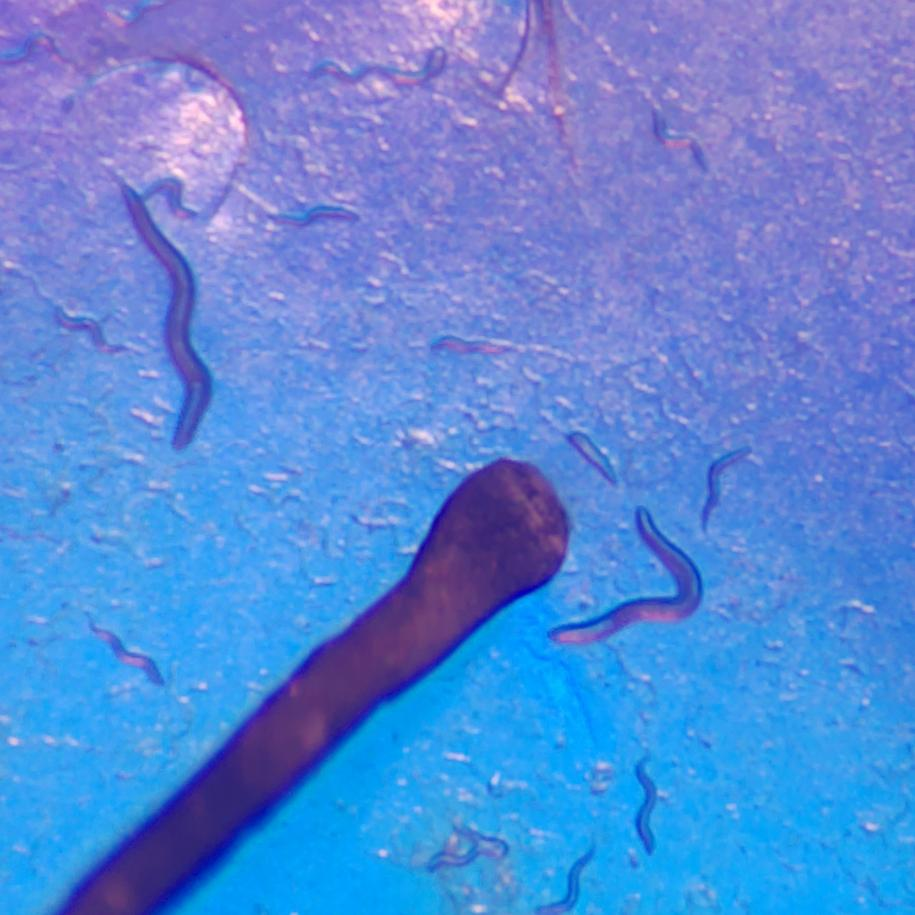pick: (58, 460, 568, 914)
worm: (119, 182, 211, 449), (549, 506, 702, 643), (87, 614, 163, 685), (310, 46, 446, 85), (535, 843, 595, 914), (701, 446, 750, 530), (653, 108, 707, 171), (54, 307, 125, 353), (566, 431, 617, 485), (635, 754, 657, 855), (431, 335, 507, 354)
